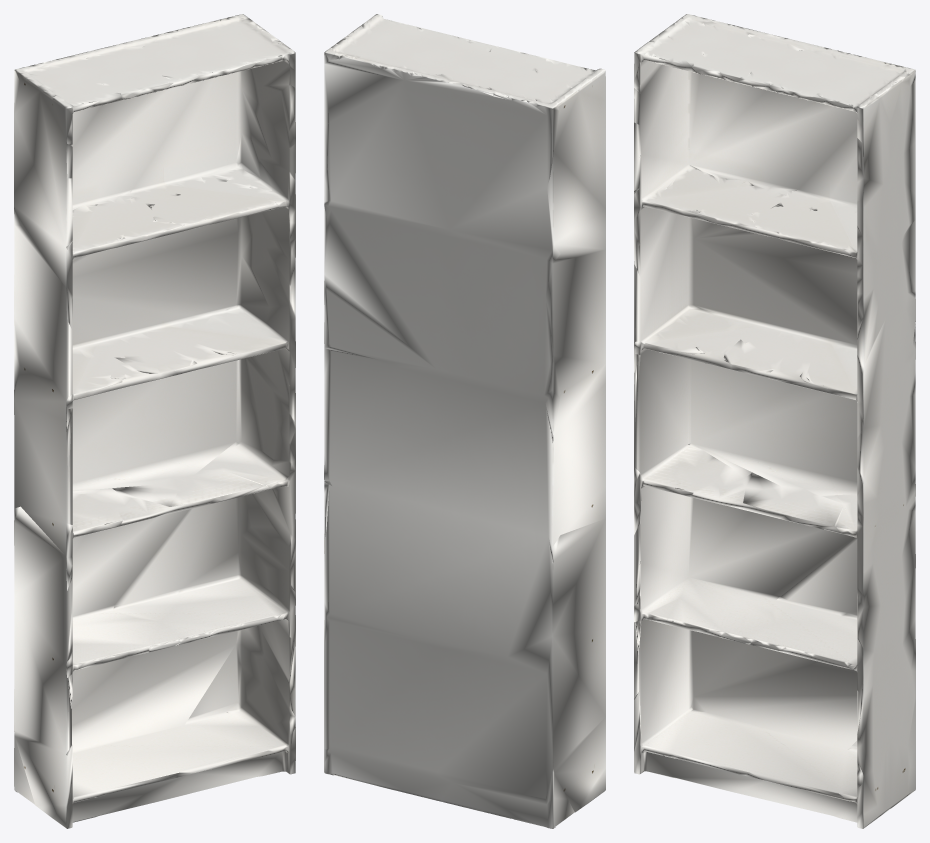
Rendered from meshy-ikea-70261131.glb.
3 renders of one model, left to right at view 1: azimuth 30°, elevation 25°; view 2: azimuth 150°, elevation 25°; view 3: azimuth 330°, elevation 25°, orthographic.
Parts seen in each view (by area): view 1: Exact catalog scale: ikea-70261131; view 2: Exact catalog scale: ikea-70261131; view 3: Exact catalog scale: ikea-70261131.
Boxes of the visible parts, x1,y1,x2,y2 form: Exact catalog scale: ikea-70261131: [14, 14, 295, 828]; Exact catalog scale: ikea-70261131: [324, 14, 605, 828]; Exact catalog scale: ikea-70261131: [634, 14, 915, 828].
Size of the model in its own units: 0.6 by 1.8 by 0.241.
Materials: 1 (1 with a texture image).
